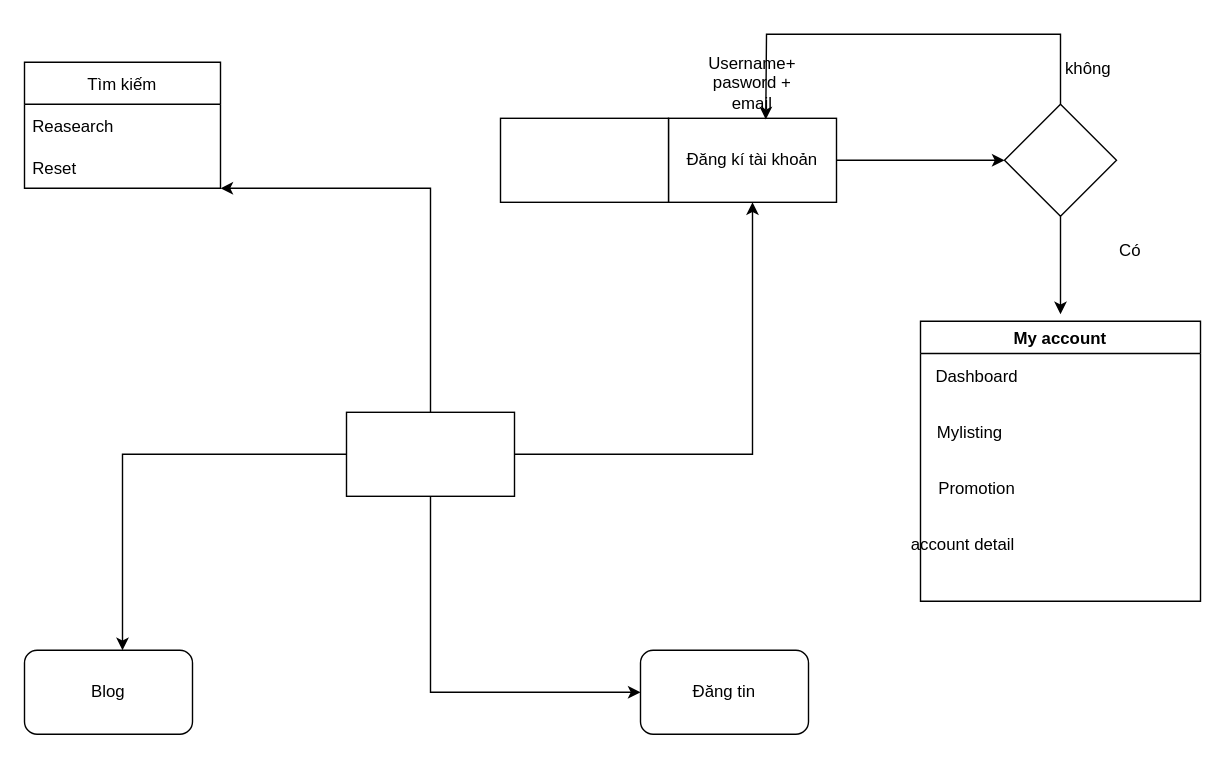
Image size: 1225x759. Some labels were removed from this diagram. Each missing label, with the centre of its shape:
"Thành công" belongs at (1059,159).
"Trang chủ" belongs at (429,453).
"Đăng nhập" belongs at (583,159).
